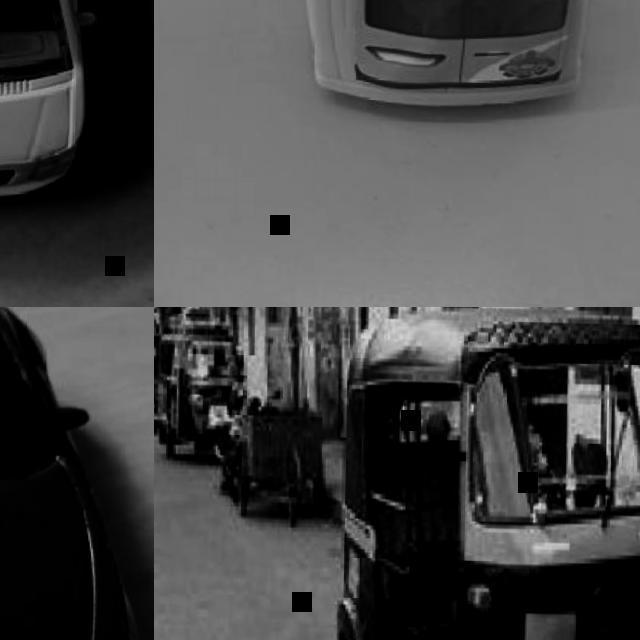car: (1, 412, 153, 635), (300, 0, 588, 117), (159, 335, 250, 463)
